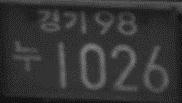0: (79, 42, 106, 91)
1: (49, 40, 76, 90)
2: (110, 44, 138, 92)
6: (142, 44, 169, 94)
8: (116, 9, 137, 36)
9: (94, 8, 114, 35)
경기_O: (38, 7, 88, 35)
누: (12, 39, 41, 71)
